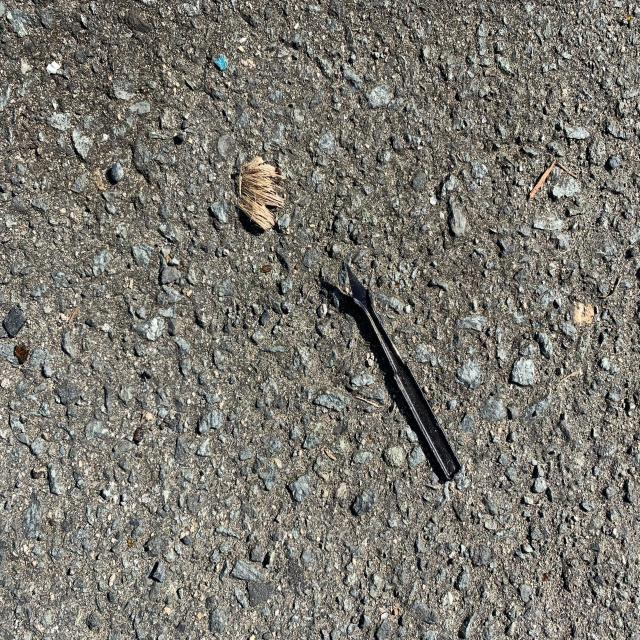Broken glass: (15, 345, 29, 363), (134, 427, 144, 441), (542, 573, 549, 581), (128, 539, 133, 546), (626, 14, 631, 21)
Other plastic bottle: (214, 57, 228, 70), (46, 62, 60, 74)
Plastic utensils: (346, 262, 462, 481)
